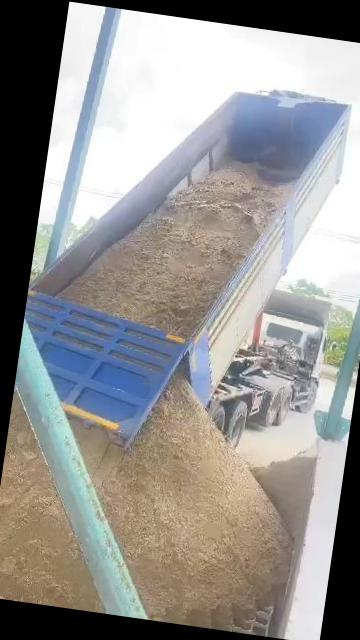sand: (74, 376, 291, 630), (60, 163, 291, 337), (0, 398, 101, 610), (252, 446, 315, 569)
